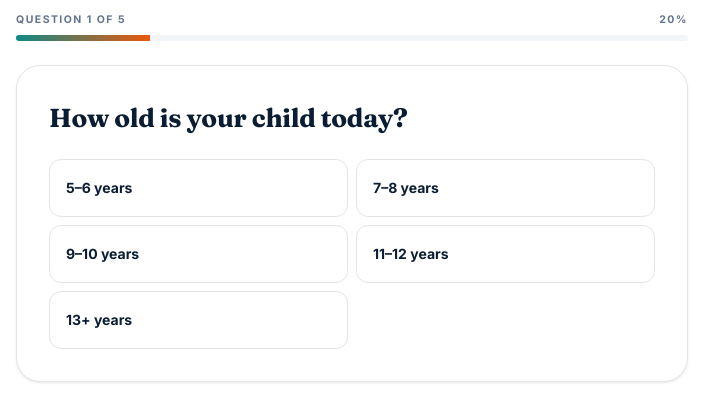
it: GradeFitQuiz › Back goes to the previous question
Click the button "5–6 years" at (99, 188), box [49,159,348,217]
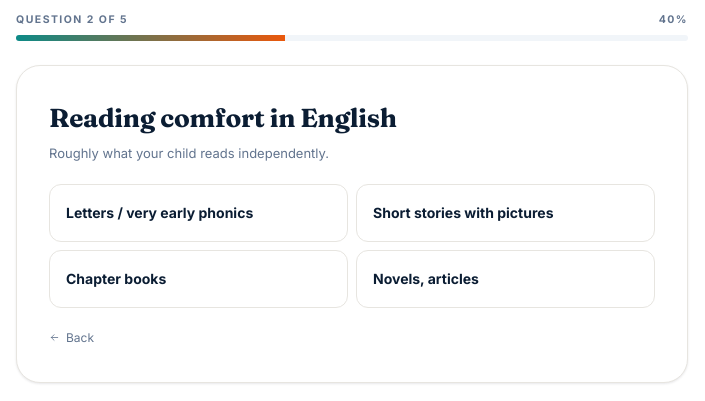
Now the text "Question 2 of 5" is shown, box [16,12,128,29]
Click the button "Back" at (72, 338), box [49,328,94,347]
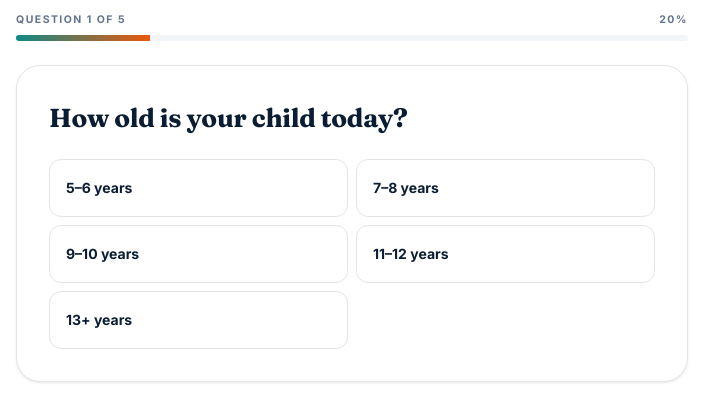
Now the text "Question 1 of 5" is shown, box [16,12,126,29]
